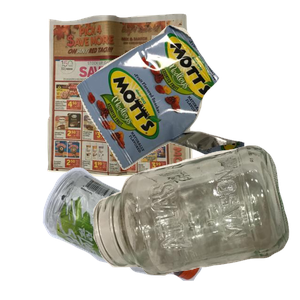glass: (91, 143, 300, 300)
paper: (44, 11, 229, 181)
plastic: (40, 165, 235, 300)
trash: (74, 22, 300, 185)
